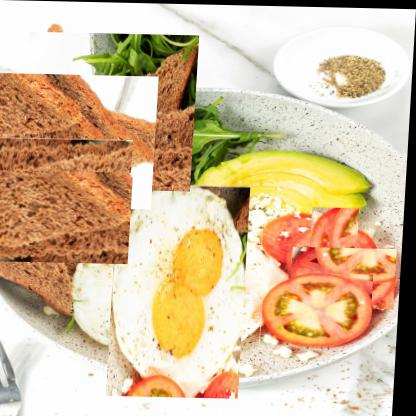bread: (26, 27, 198, 195), (0, 58, 147, 226), (0, 144, 111, 291), (0, 112, 112, 256)
egg: (91, 203, 273, 379)
tomato: (263, 271, 377, 347), (292, 244, 401, 308), (301, 214, 372, 284), (263, 213, 338, 262)
